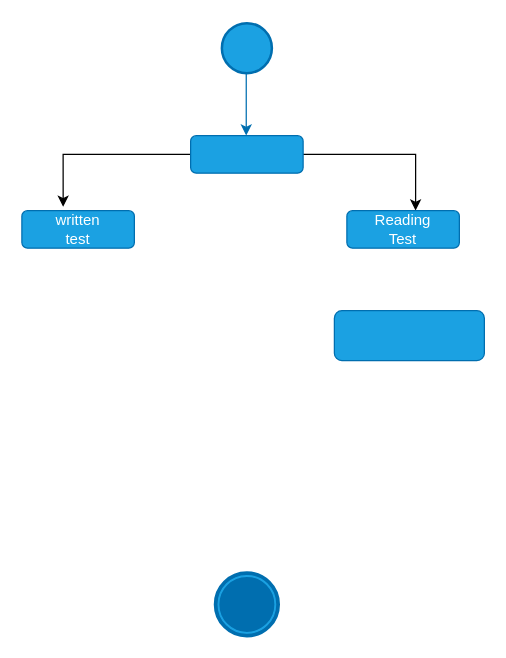
The diagram is 506 pixels wide and 658 high, and some of its shapes have lost their labels. Each missing label, with the centre of its shape:
"Log in" goes at (x=246, y=153).
"Take the test" goes at (x=408, y=335).
